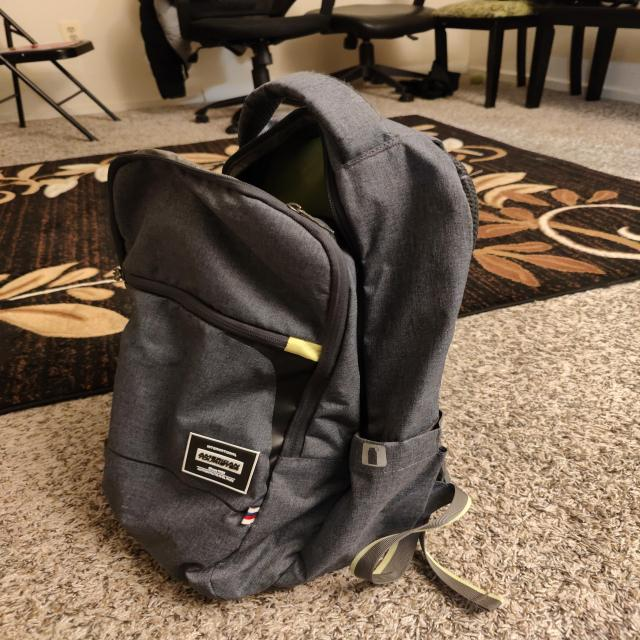bag: (148, 80, 470, 596)
